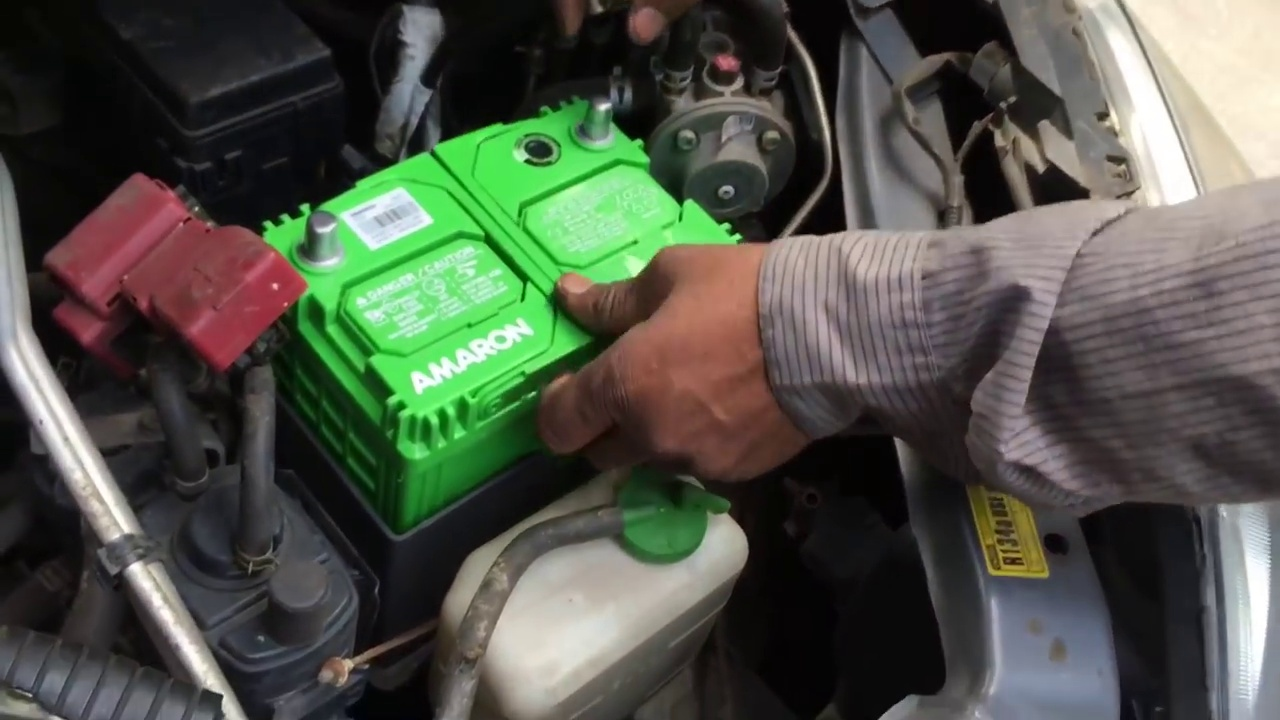battery: (257, 92, 755, 441)
neg_disconnected: (546, 84, 656, 186)
pos_disconnected: (111, 167, 392, 324)
